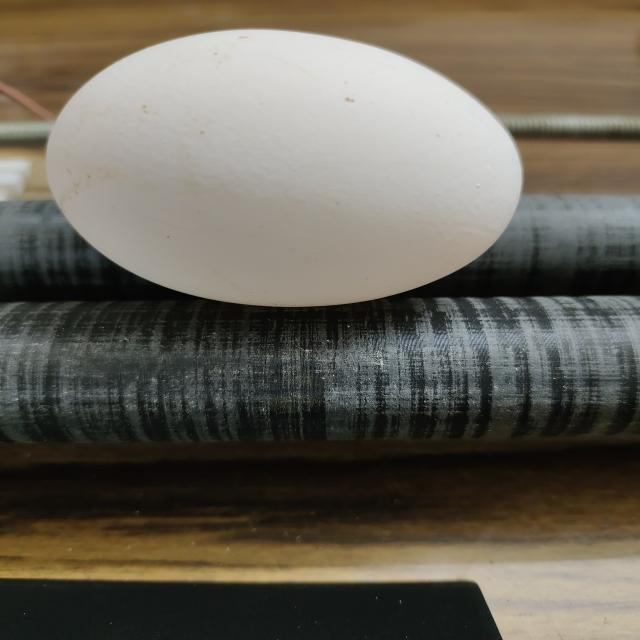Eggs: (50, 28, 526, 309)
